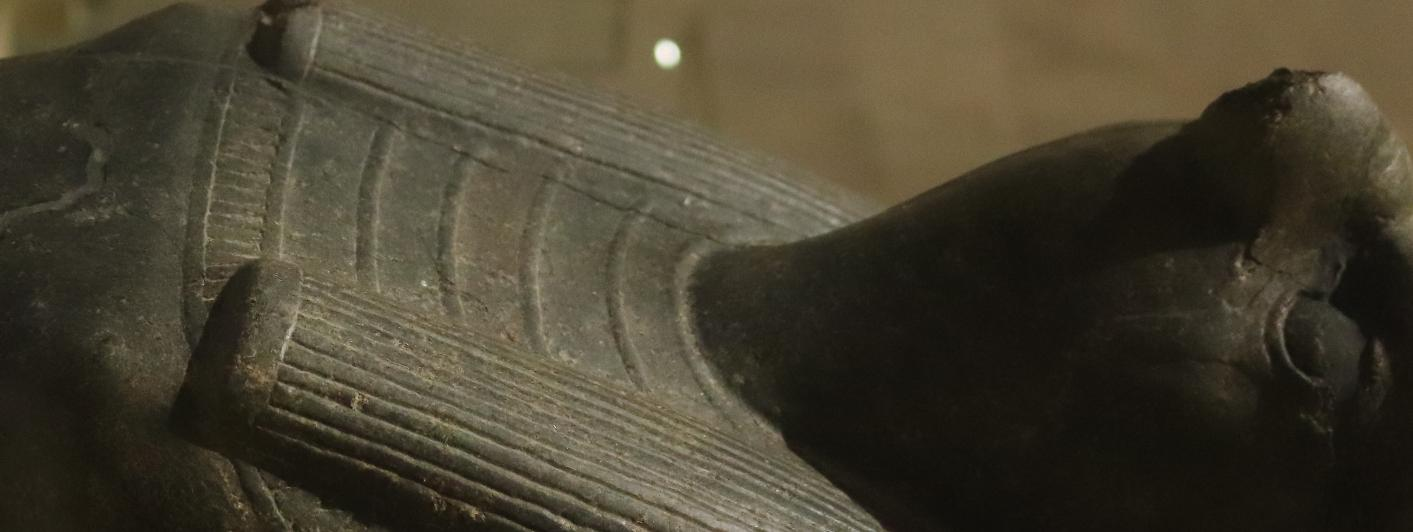Ra_Horakhty: (0, 0, 748, 532)
